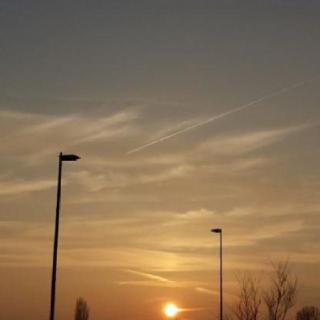Contrails: (0, 0, 320, 302)
